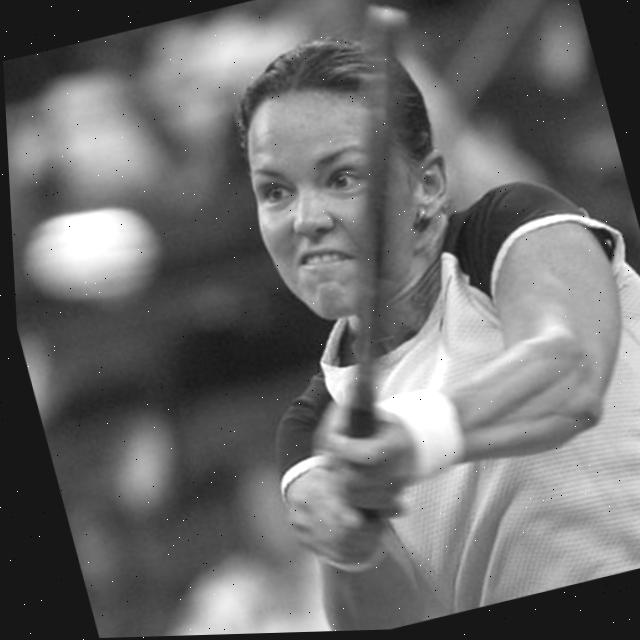face: (216, 47, 472, 336)
